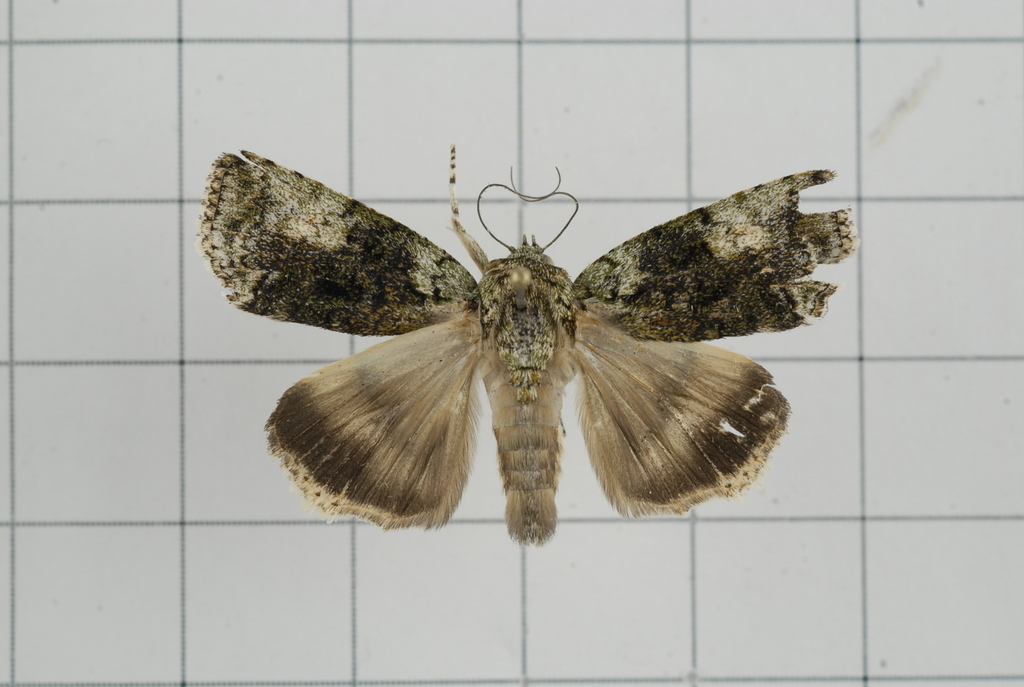Butterfly: (189, 116, 844, 535)
